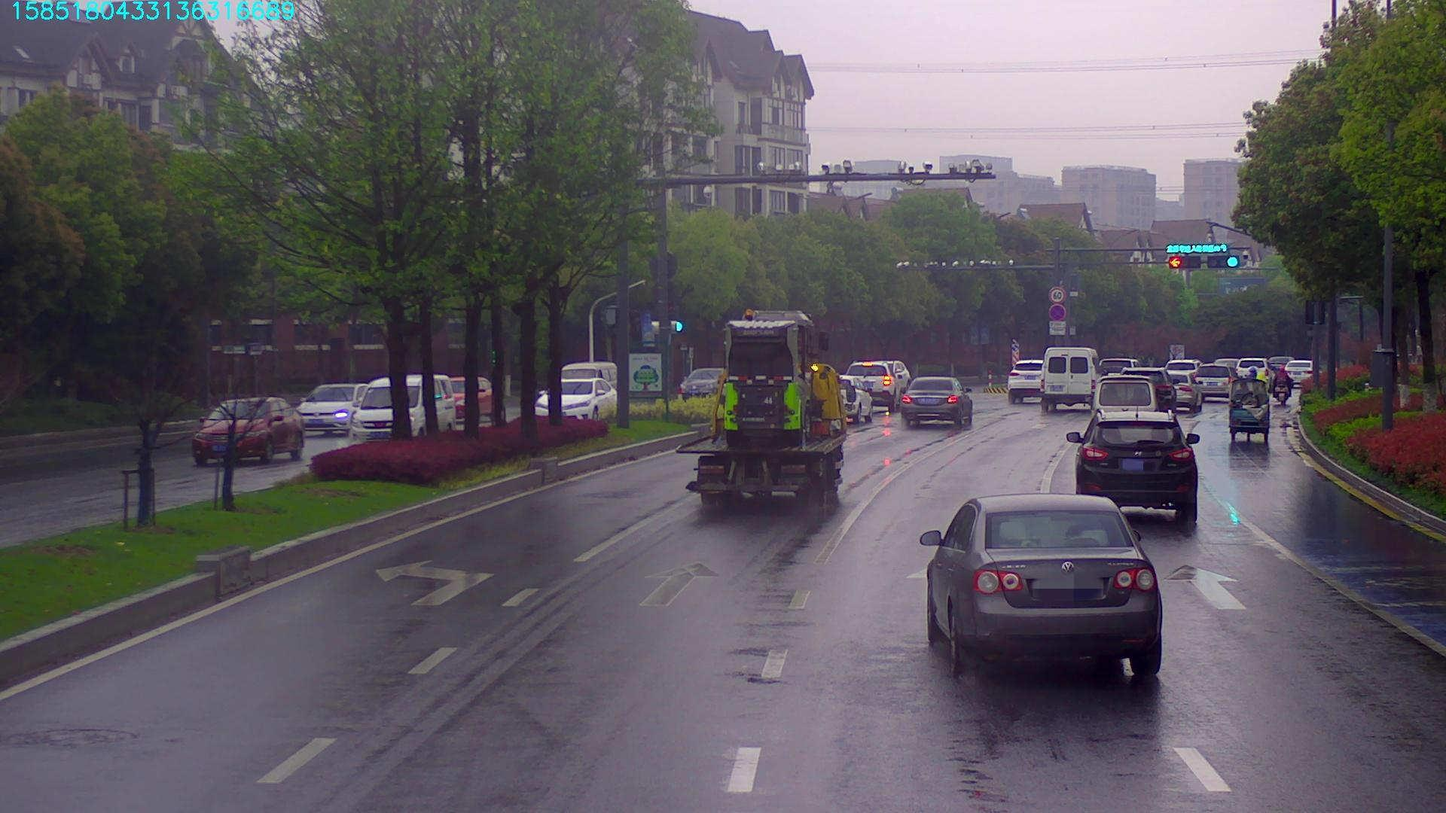green: (1209, 253, 1239, 266)
red: (1167, 255, 1200, 270)
wait_on: (1169, 239, 1232, 254)
